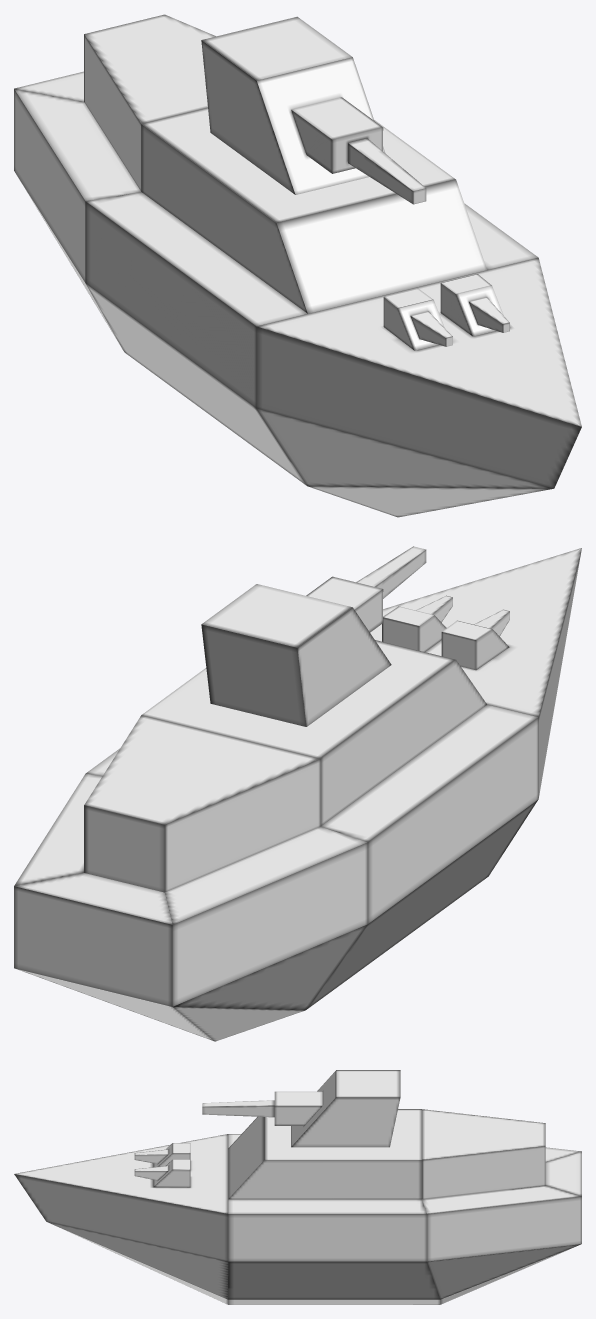
Rendered from Ship-01.fbx.
The picture shows the model from 3 angles, top to bottom: view 1: azimuth 30°, elevation 25°; view 2: azimuth 150°, elevation 25°; view 3: azimuth 270°, elevation 25°; orthographic projection. The views are drawn at different scales.
Visible parts, largest first — view 1: Ship_01, Ship_01_Turret; view 2: Ship_01, Ship_01_Turret; view 3: Ship_01, Ship_01_Turret.
Part boxes in pixels (bbox=[...]): Ship_01: bbox=[14, 14, 581, 517]; Ship_01_Turret: bbox=[201, 16, 426, 204]; Ship_01: bbox=[14, 548, 581, 1041]; Ship_01_Turret: bbox=[201, 546, 426, 726]; Ship_01: bbox=[14, 1109, 581, 1304]; Ship_01_Turret: bbox=[202, 1070, 400, 1147].
Size of the model in its own units: 0.757 by 0.9753 by 2.27.
